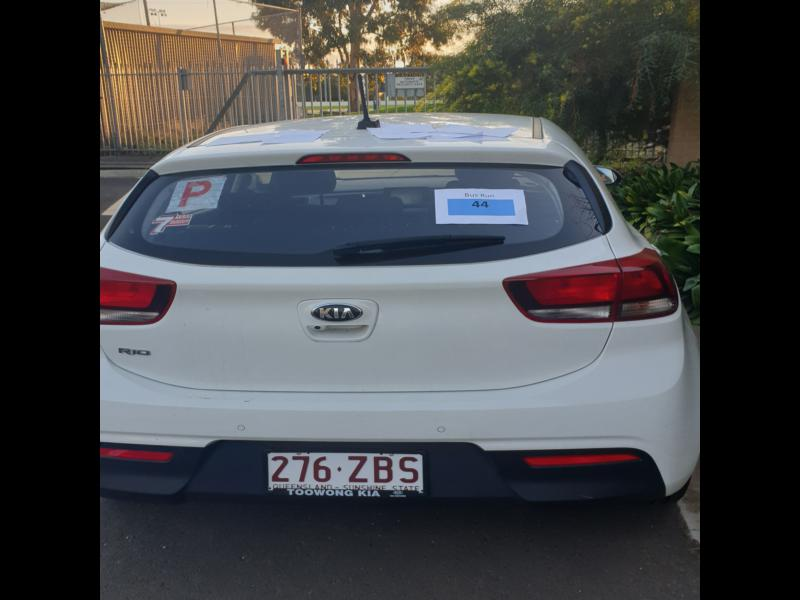BusRun: (447, 197, 517, 218)
PlateNo: (266, 449, 426, 488)
